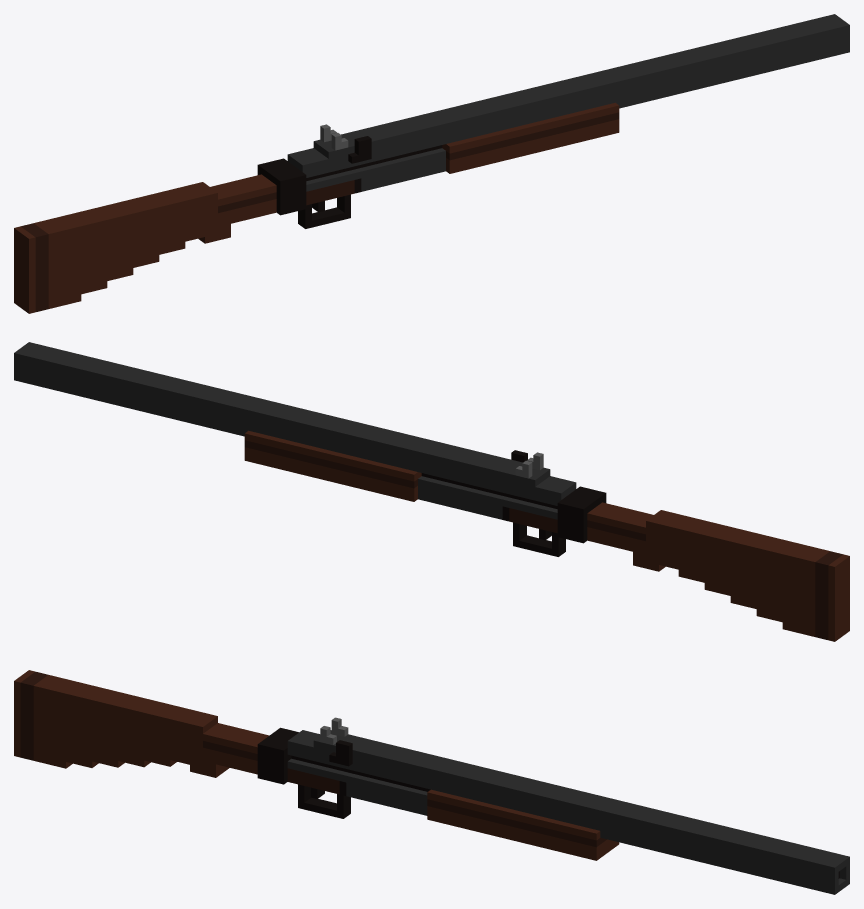
File: gun.obj
3 renders of one model, top to bottom at view 1: azimuth 30°, elevation 25°; view 2: azimuth 150°, elevation 25°; view 3: azimuth 330°, elevation 25°, orthographic.
Bounding box in the file's own units: 12.6 × 1.5 × 0.6.
1 material, 1 textured.
